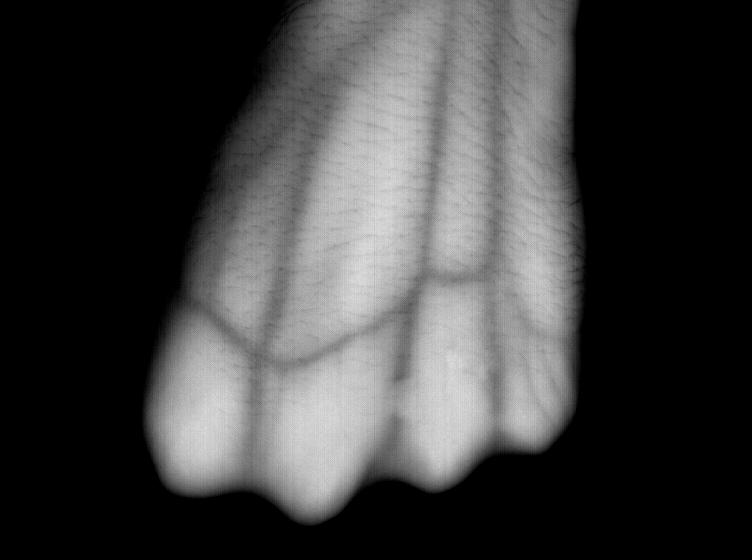Vein: (254, 41, 505, 378)
